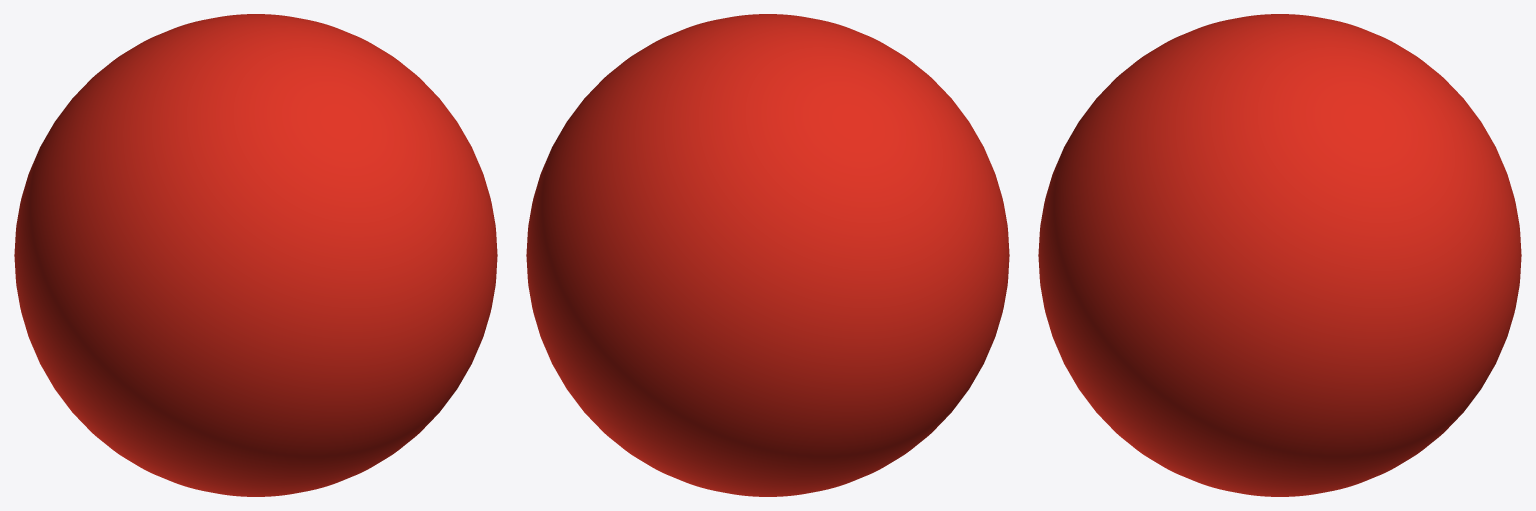
The model's file is marble_red.gltf.
The picture shows the model from 3 angles, left to right: view 1: azimuth 30°, elevation 25°; view 2: azimuth 150°, elevation 25°; view 3: azimuth 270°, elevation 25°; orthographic projection.
Parts seen in each view (by area): view 1: Sphere; view 2: Sphere; view 3: Sphere.
Boxes of the visible parts, x1,y1,x2,y2 form: Sphere: (14,14,497,496); Sphere: (526,14,1009,496); Sphere: (1038,14,1521,496).
Size of the model in its own units: 0.1249 by 0.125 by 0.125.
